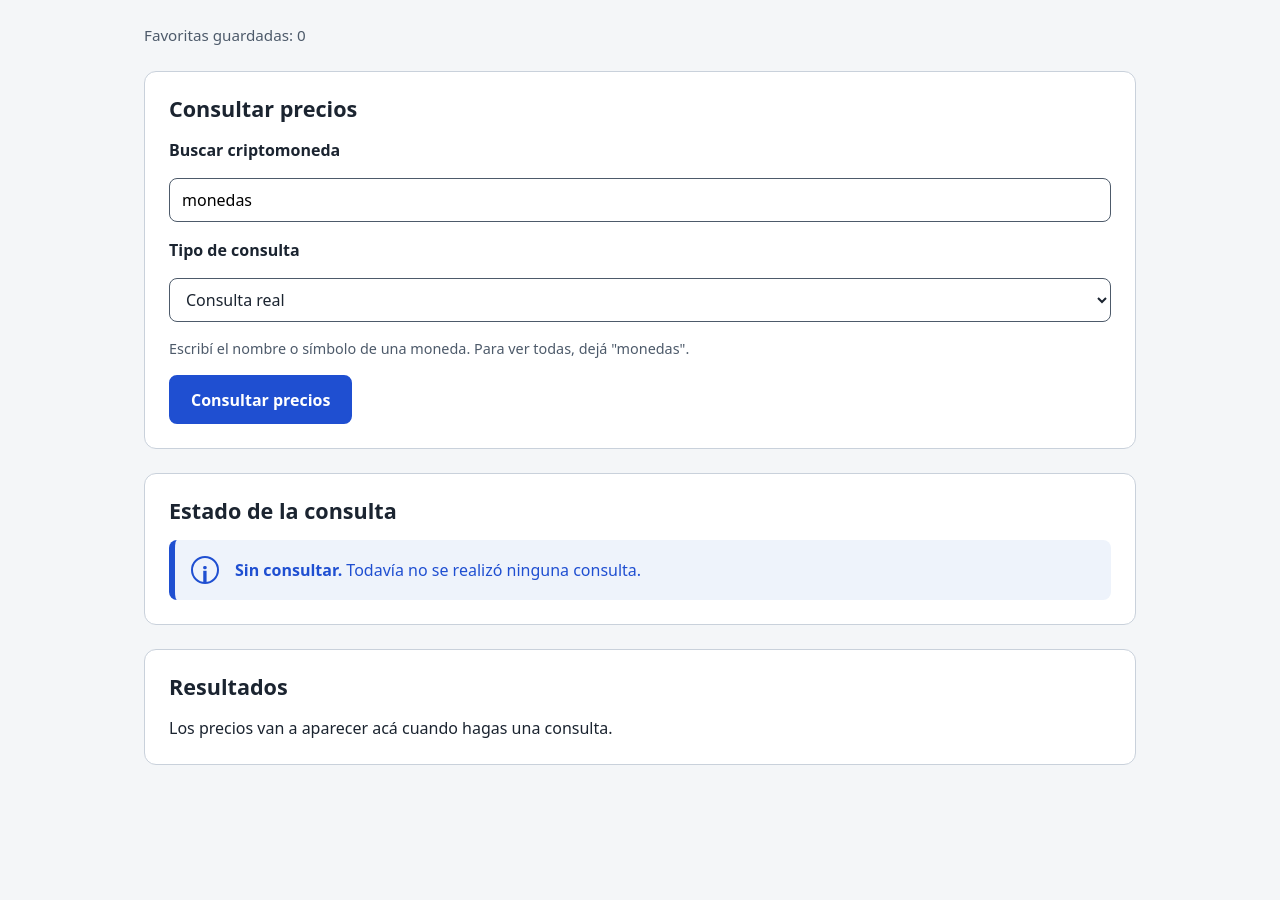
Consulta de precios › muestra el error y permite reintentar
Click the button "Consultar precios": (261,400) [169,375,352,424]
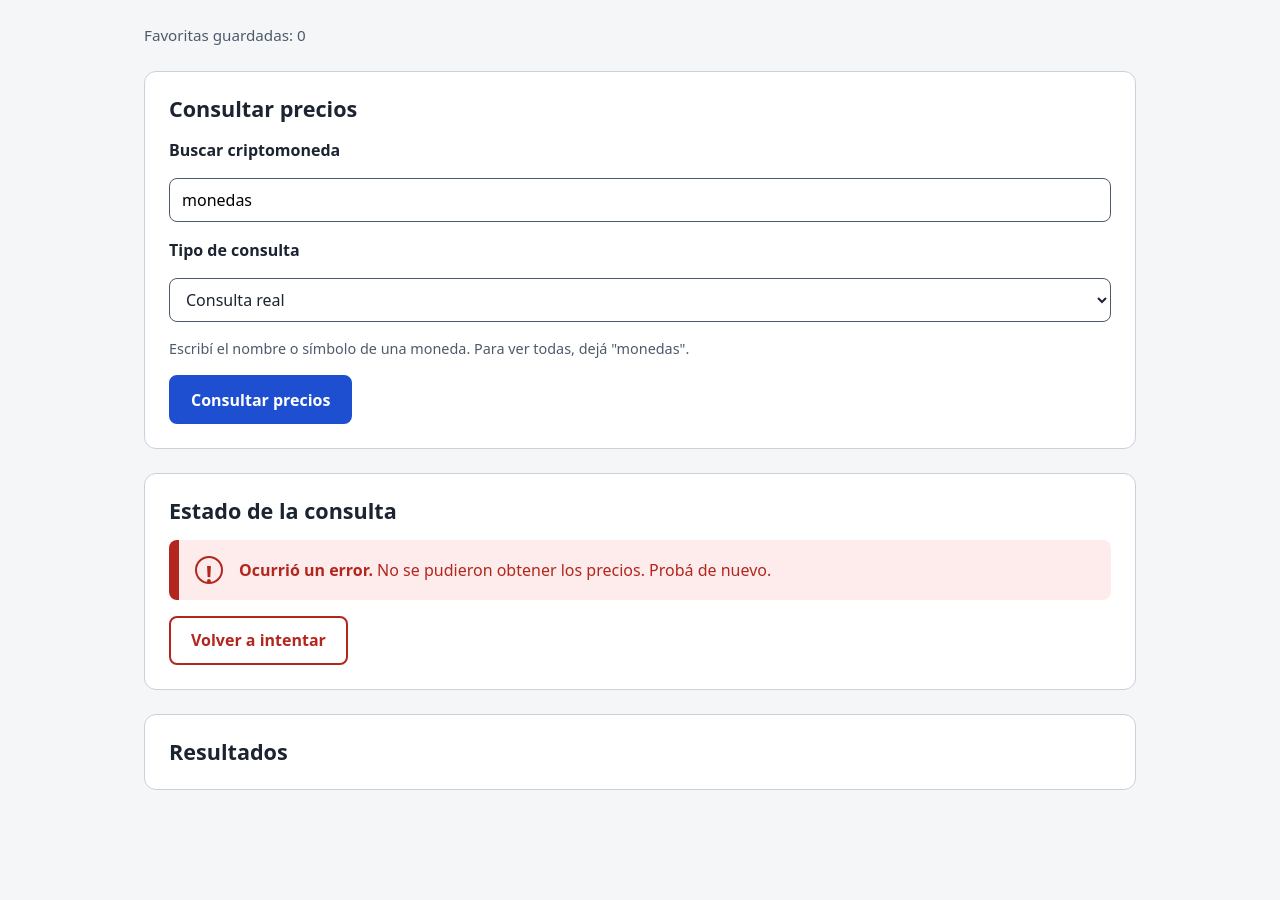
Now the button "Volver a intentar" is shown, box [169,616,348,665]
